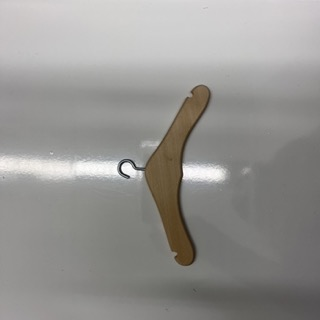rack: (116, 84, 211, 268)
